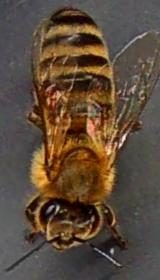varroa_mite: (36, 77, 64, 110)
